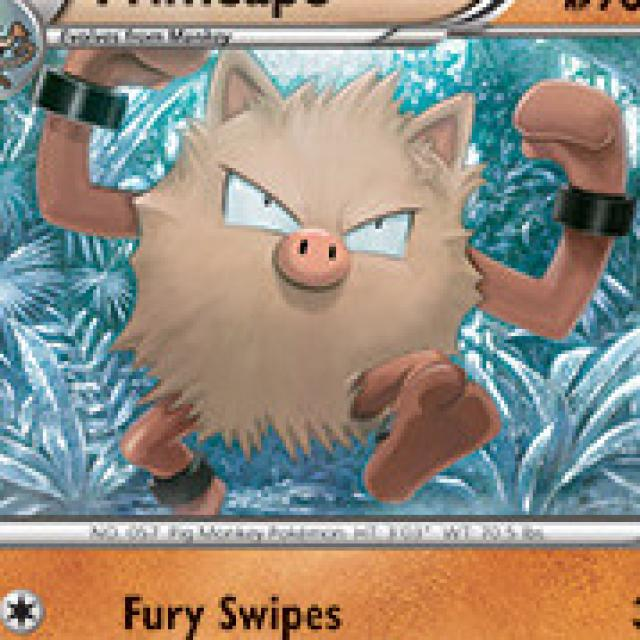Primeape: (108, 44, 568, 497)
